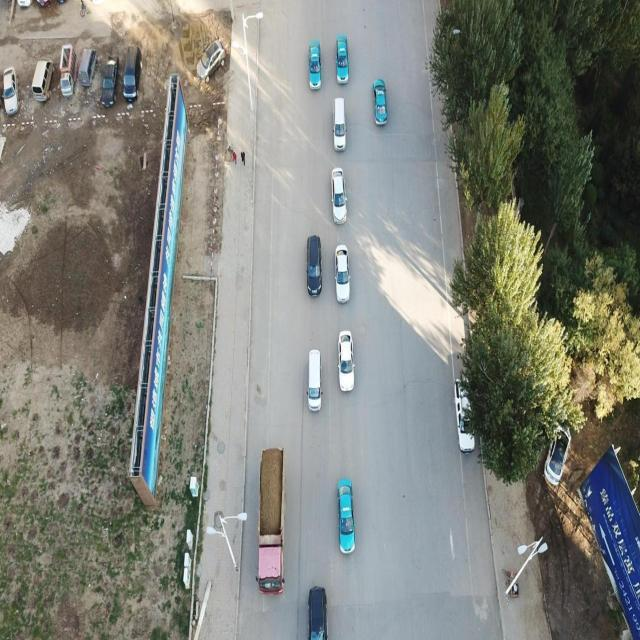p3rson: (240, 148, 247, 168), (231, 148, 237, 164)
